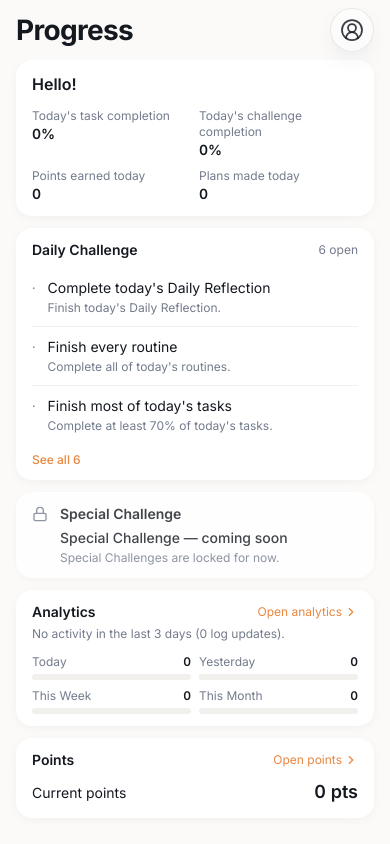
Test case: Phase 14-A Progress › 6. Points block opens the detail page
Click the button with test id "progress-points". click: x=53, y=760
box: x1=16 y1=738 x2=374 y2=818
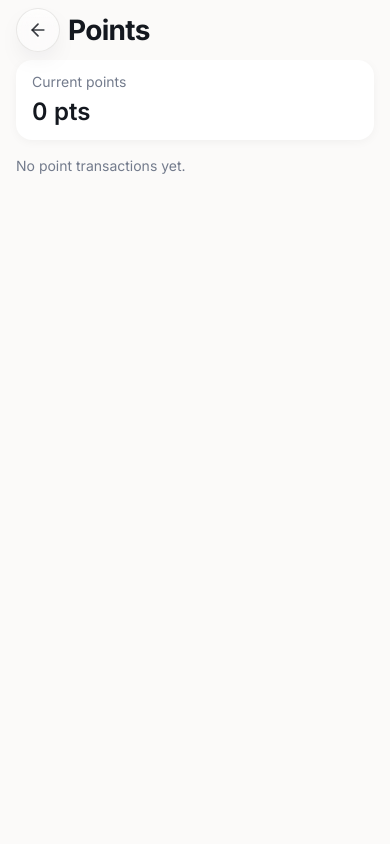
expect the heading "Points" is shown: met, box x1=68 y1=9 x2=150 y2=51
